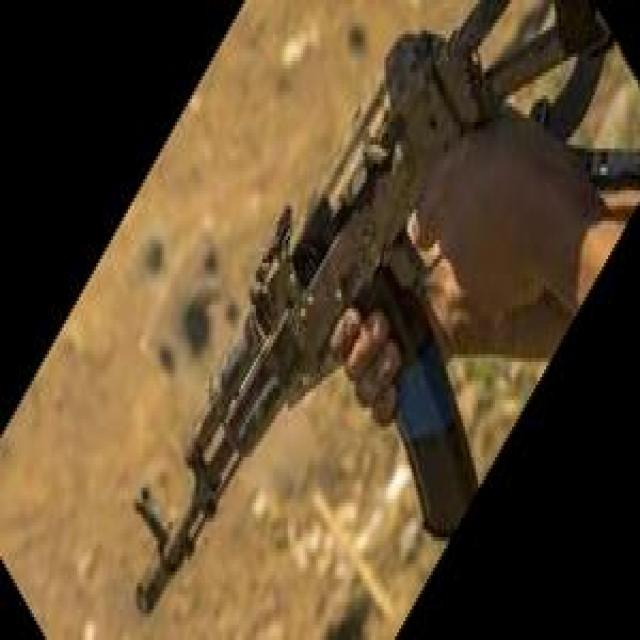weapon: (133, 0, 640, 613)
